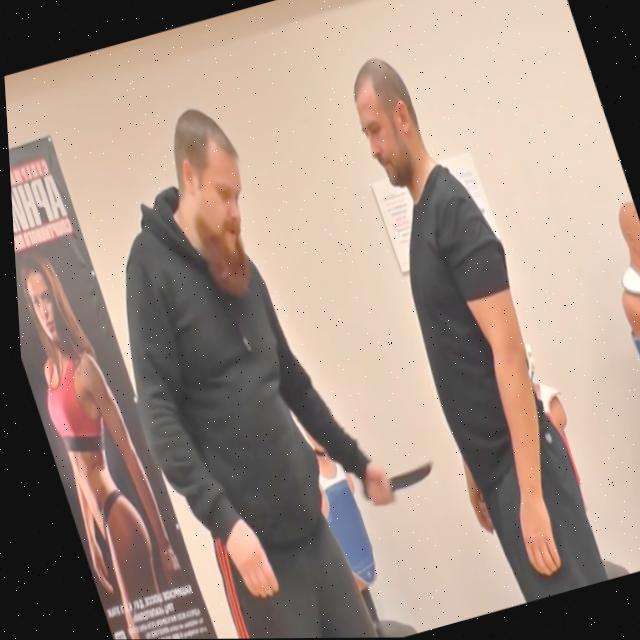knife: (374, 446, 440, 512)
